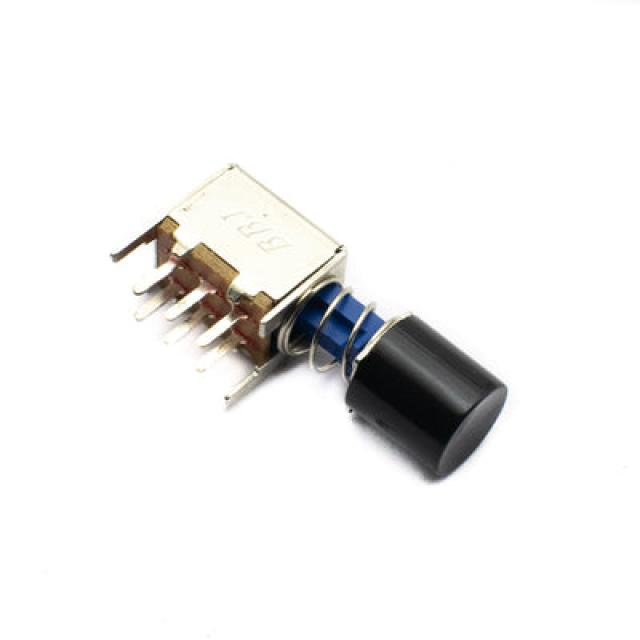Push button: (109, 163, 506, 482)
